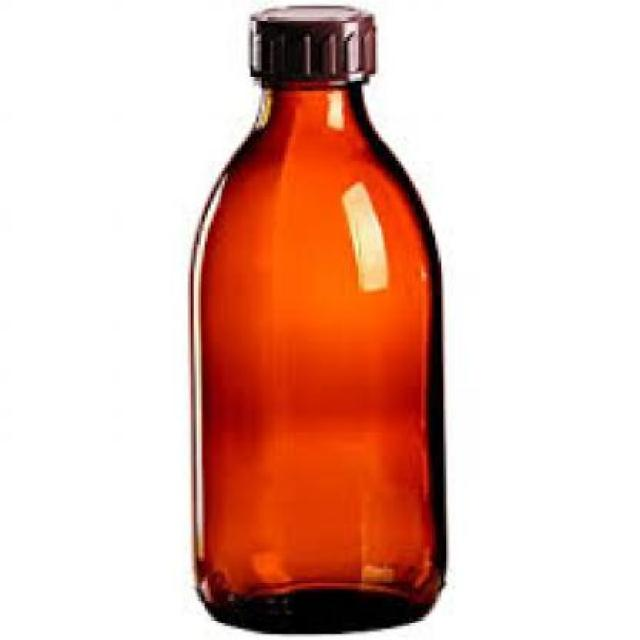kaca: (191, 80, 443, 631)
